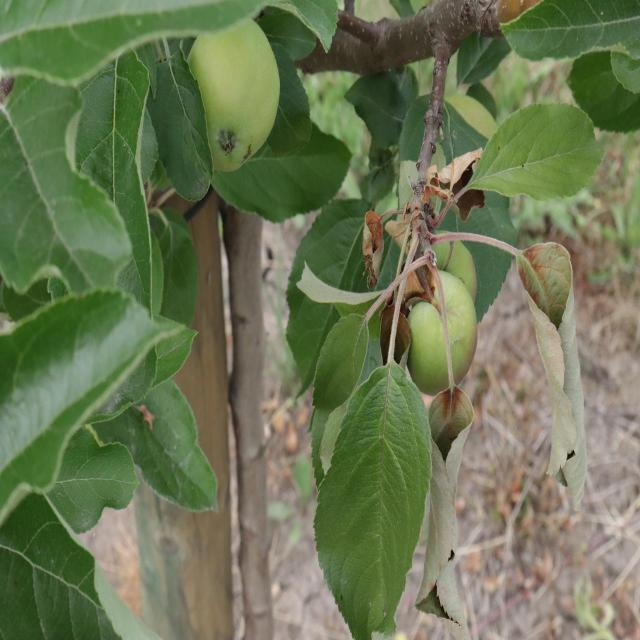-FireBlight-: (426, 150, 478, 214), (359, 206, 390, 286)
